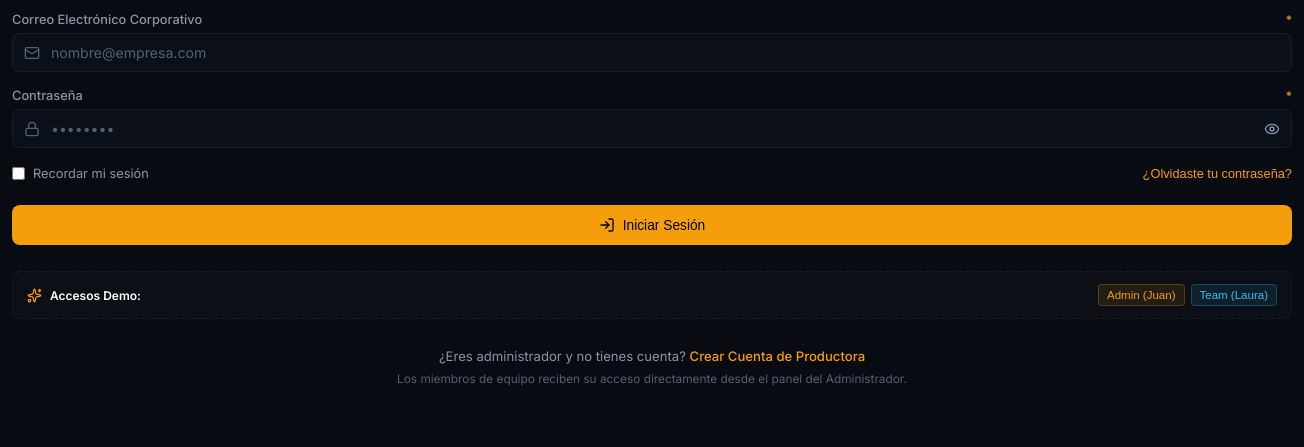
Auth UI Components Suite › LoginForm › muestra errores de validación si se envía con campos vacíos
Click the button "Iniciar Sesión".
click(652, 225)  # box [12,205,1292,245]
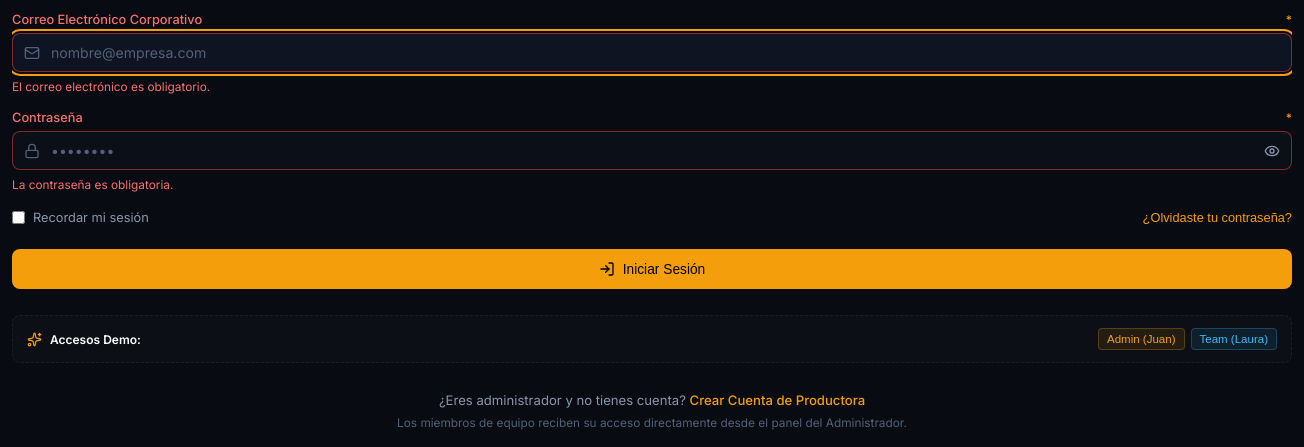
Result: the text "El correo electrónico es obligatorio." is shown at [12,80,210,94]
Result: the text "La contraseña es obligatoria." is shown at [12,178,173,192]
